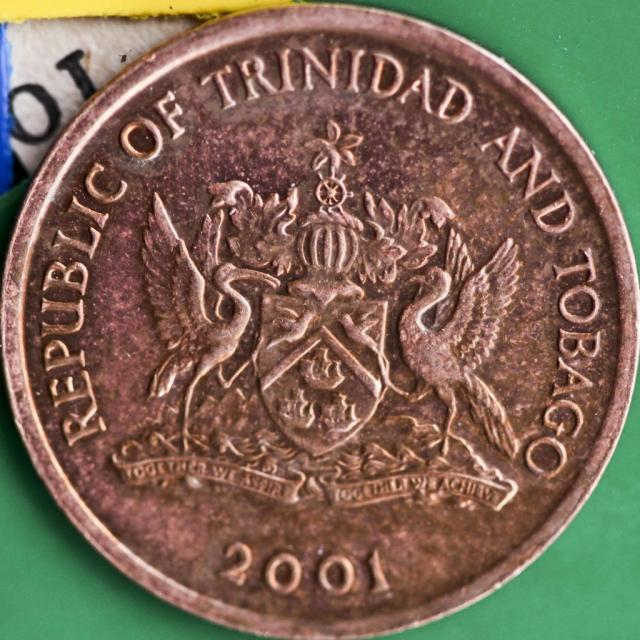Coin: (0, 1, 640, 640)
